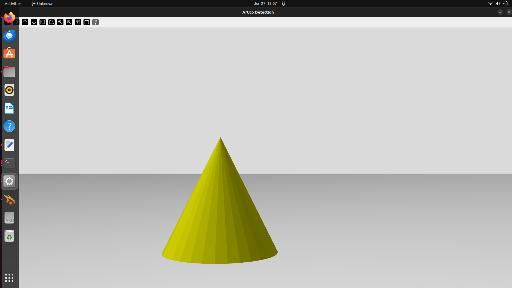yellow_cone: (161, 137, 278, 263)
